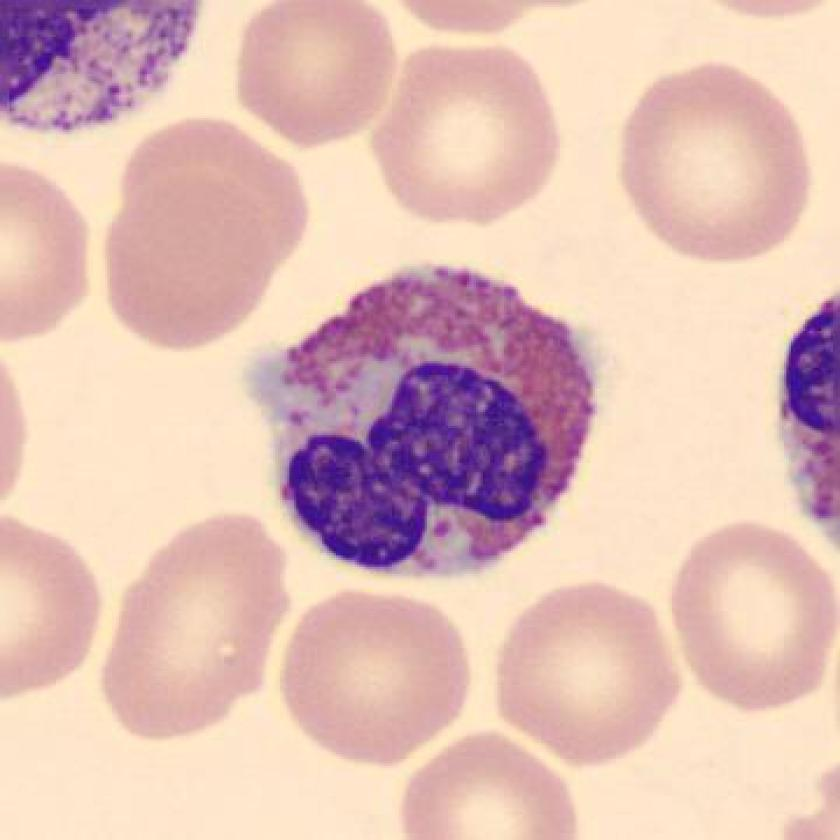eosinophil: (227, 251, 617, 598)
